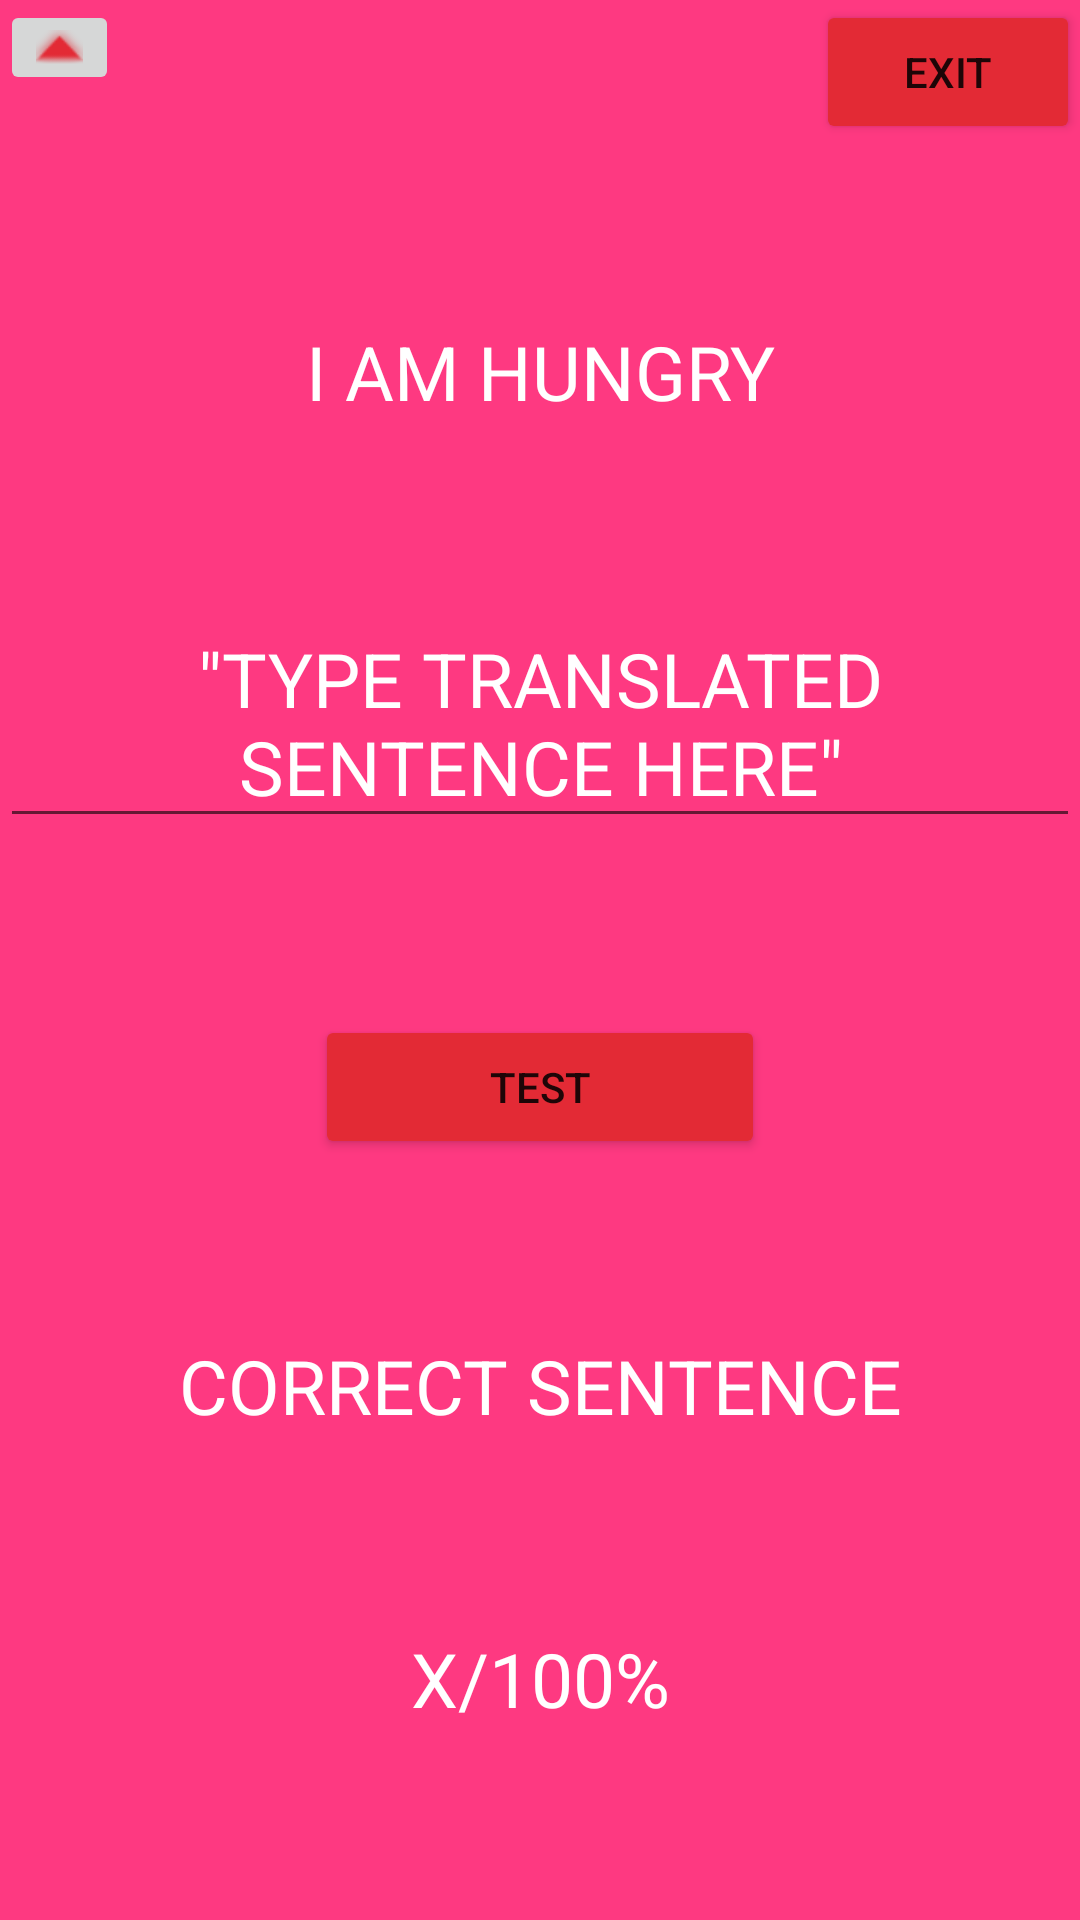

Icons on this 1080 x 1920 Android screen, each with its box as (x1, y1, x2, y2):
arrow up float: (12, 18, 107, 77)
